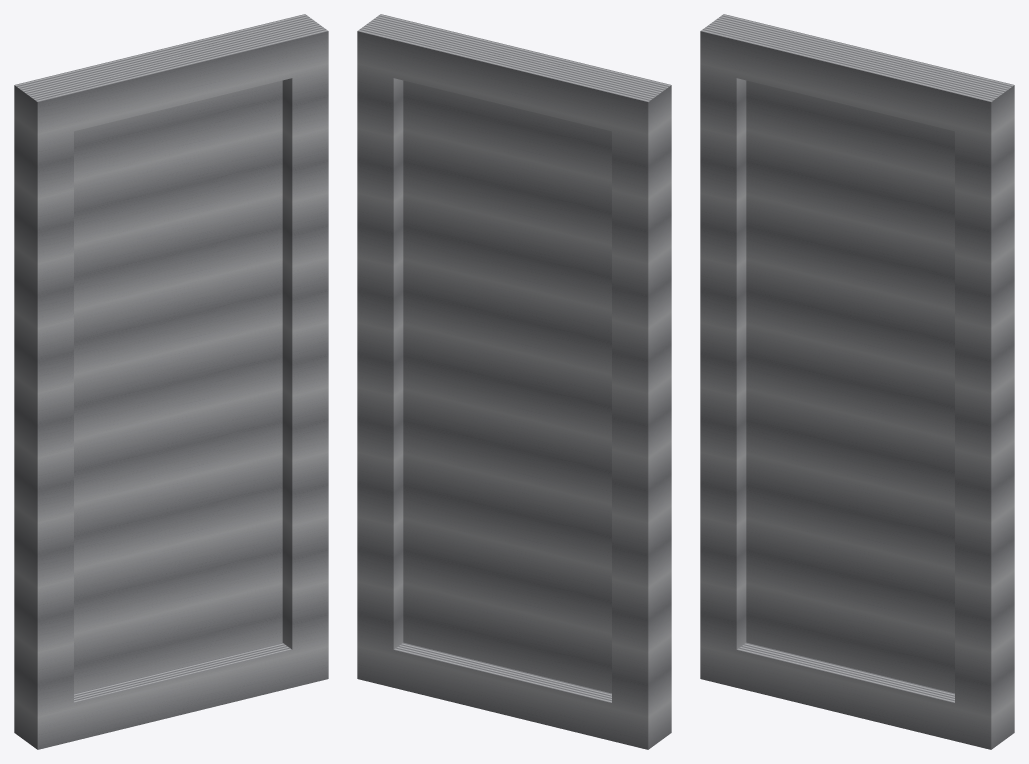
The model's file is door.FBX.
3 renders of one model, left to right at view 1: azimuth 30°, elevation 25°; view 2: azimuth 150°, elevation 25°; view 3: azimuth 330°, elevation 25°, orthographic.
Visible parts, largest first — view 1: Box006; view 2: Box006; view 3: Box006.
Boxes of the visible parts, x1,y1,x2,y2 form: Box006: [14, 14, 328, 749]; Box006: [357, 14, 671, 749]; Box006: [700, 14, 1014, 749].
Bounding box in the file's own units: 31.45 × 66.9 × 4.4.
Materials: 1 (1 with a texture image).
